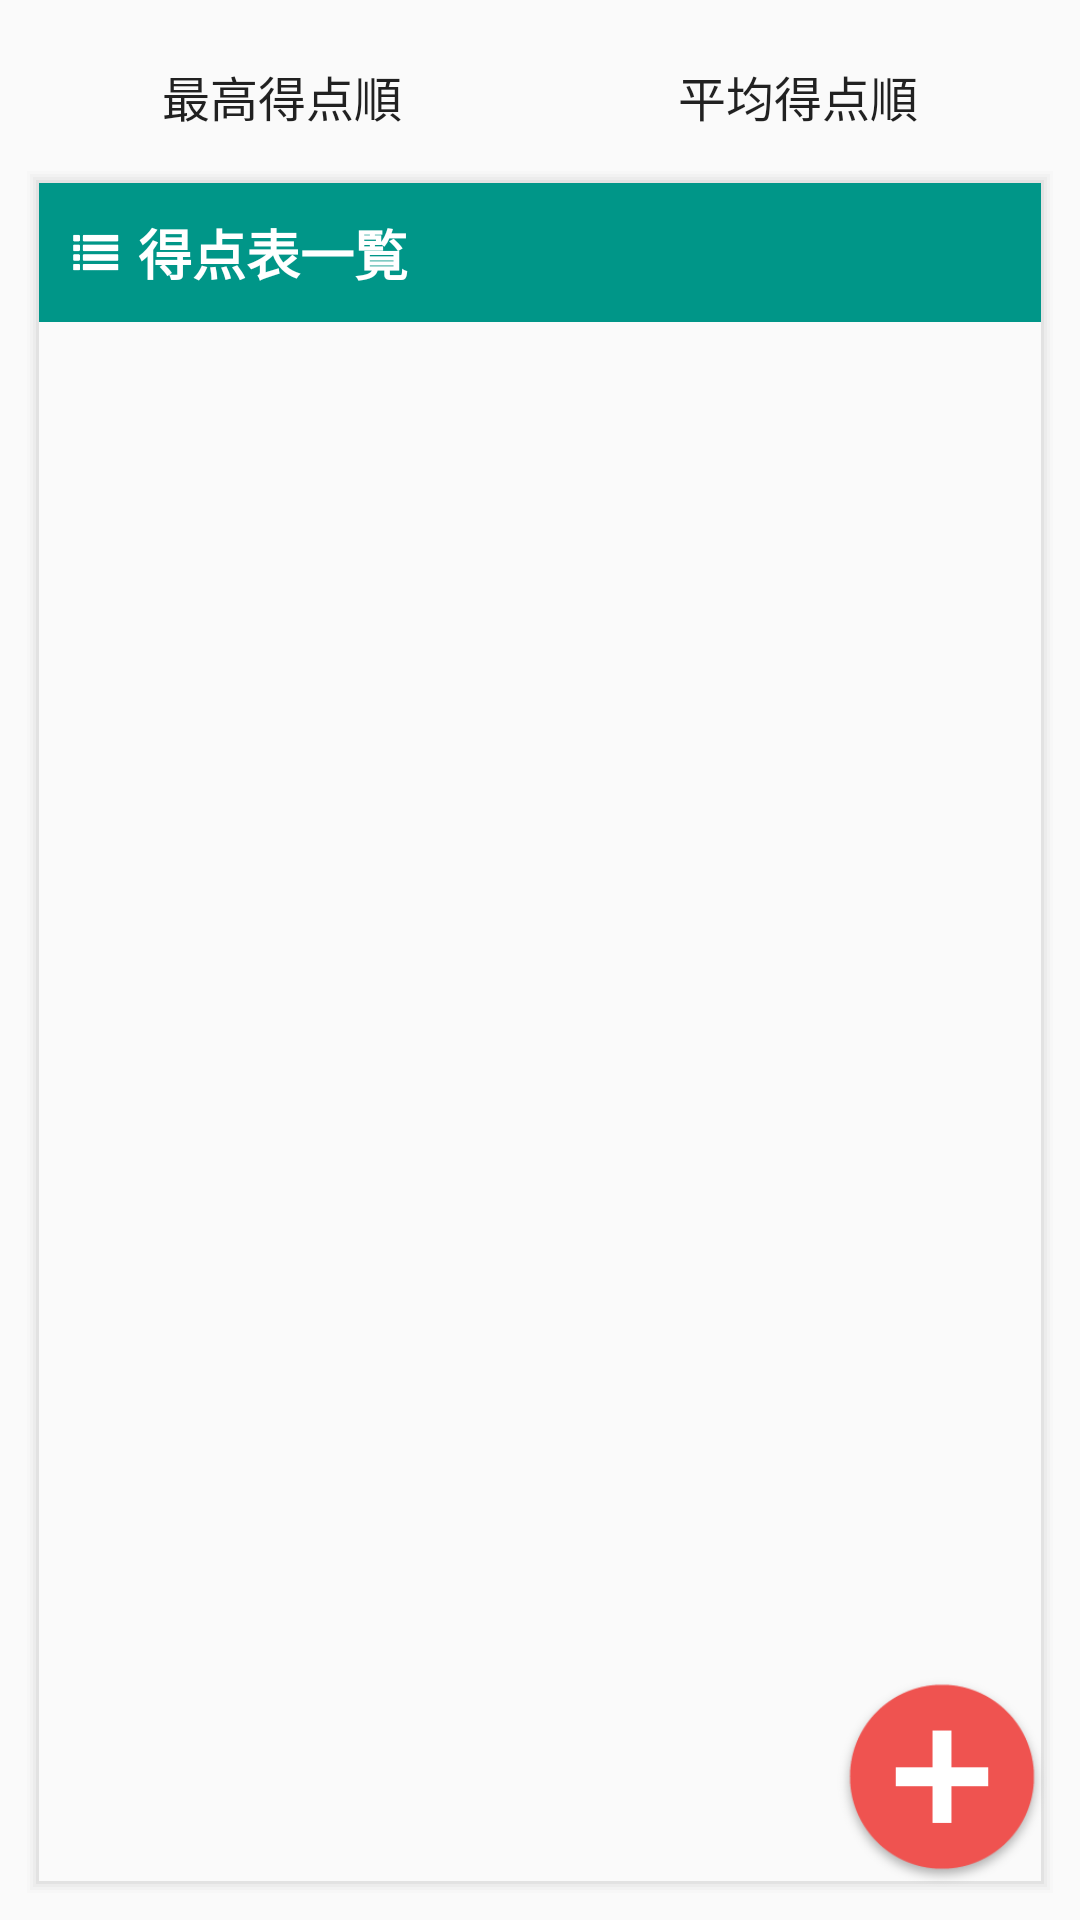

Named icons in this screenshot (1080px x 1920px) and their bounding boxes, (x1, y1, x2, y2):
list: (73, 235, 119, 271)
